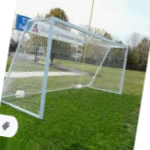goals: (3, 16, 129, 119)
